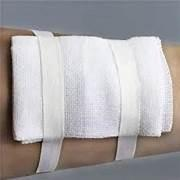cotton: (57, 36, 120, 137), (59, 36, 119, 137), (128, 37, 172, 135)
